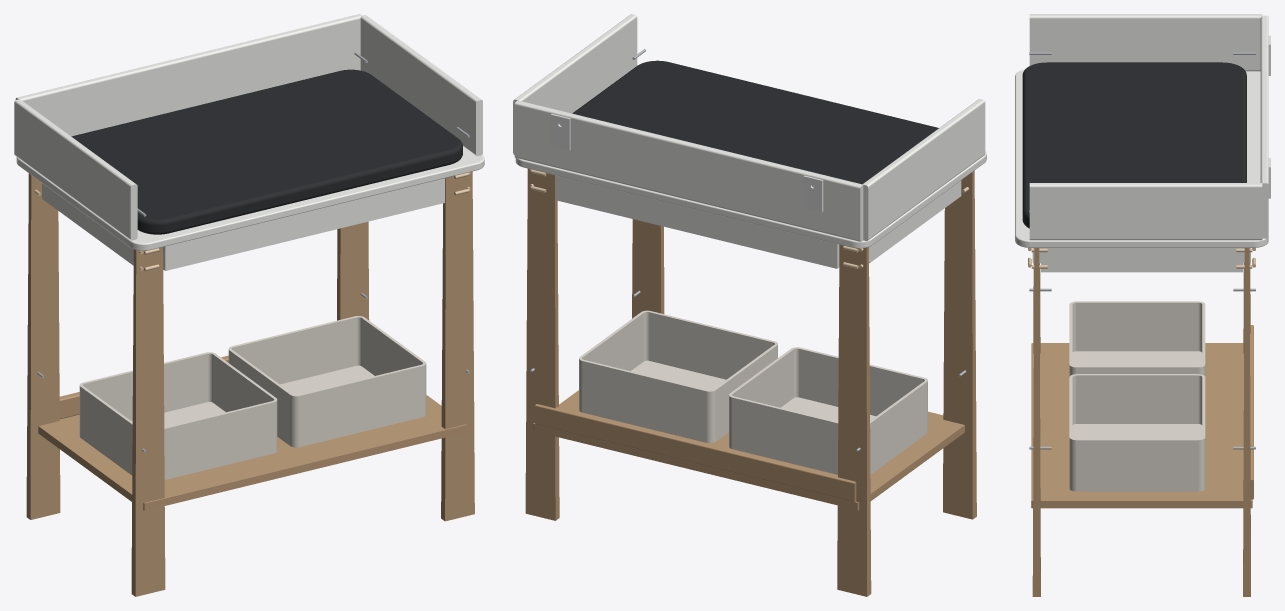
Rendered from anatomy_v2.glb.
3 renders of one model, left to right at view 1: azimuth 30°, elevation 25°; view 2: azimuth 150°, elevation 25°; view 3: azimuth 270°, elevation 25°, orthographic.
Parts seen in each view (by area): view 1: coat.1, fabric.2, body.6, fabric.1, wood.4, wood.5, wood.3, wood.2, body.8, body.3, body.7, body.1 (+2 smaller); view 2: coat.1, body.6, fabric.2, fabric.1, wood.2, wood.1, wood.4, wood.6, body.8, body.2, wood.5, body.7 (+5 smaller); view 3: coat.1, fabric.2, wood.5, body.7, body.8, fabric.1, body.1, body.4, wood.3, wood.1, body.6, wood.6.
Part boxes in pixels (bbox=[...]): coat.1: bbox=[71, 69, 462, 234]; fabric.2: bbox=[228, 316, 426, 447]; body.6: bbox=[15, 14, 361, 136]; fabric.1: bbox=[79, 352, 277, 479]; wood.4: bbox=[131, 247, 165, 596]; wood.5: bbox=[38, 395, 466, 510]; wood.3: bbox=[441, 171, 474, 521]; wood.2: bbox=[26, 173, 60, 519]; body.8: bbox=[14, 99, 137, 240]; body.3: bbox=[163, 178, 444, 270]; body.7: bbox=[360, 15, 482, 156]; body.1: bbox=[16, 146, 484, 250]; coat.1: bbox=[572, 60, 938, 184]; body.6: bbox=[514, 100, 863, 241]; fabric.2: bbox=[579, 310, 777, 443]; fabric.1: bbox=[729, 347, 927, 474]; wood.2: bbox=[837, 244, 871, 596]; wood.1: bbox=[525, 168, 559, 520]; wood.4: bbox=[943, 170, 976, 519]; wood.6: bbox=[535, 404, 856, 502]; body.8: bbox=[862, 99, 985, 241]; body.2: bbox=[555, 175, 839, 268]; wood.5: bbox=[533, 390, 964, 510]; body.7: bbox=[513, 14, 637, 154]; coat.1: bbox=[1022, 62, 1246, 228]; fabric.2: bbox=[1069, 374, 1205, 491]; wood.5: bbox=[1031, 343, 1252, 508]; body.7: bbox=[1029, 183, 1262, 240]; body.8: bbox=[1029, 14, 1262, 71]; fabric.1: bbox=[1069, 301, 1205, 376]; body.1: bbox=[1015, 69, 1268, 247]; body.4: bbox=[1041, 248, 1242, 272]; wood.3: bbox=[1032, 248, 1040, 596]; wood.1: bbox=[1243, 248, 1250, 596]; body.6: bbox=[1260, 15, 1268, 238]; wood.6: bbox=[1250, 325, 1253, 499].
Bounding box in the file's own units: 0.9 × 1.01 × 0.5645.
